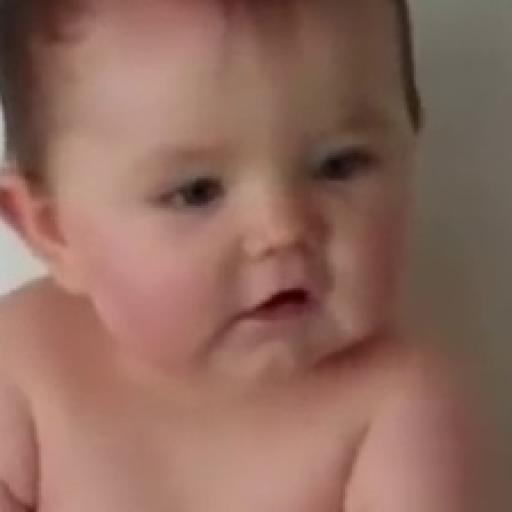Autism: (12, 0, 435, 447)
